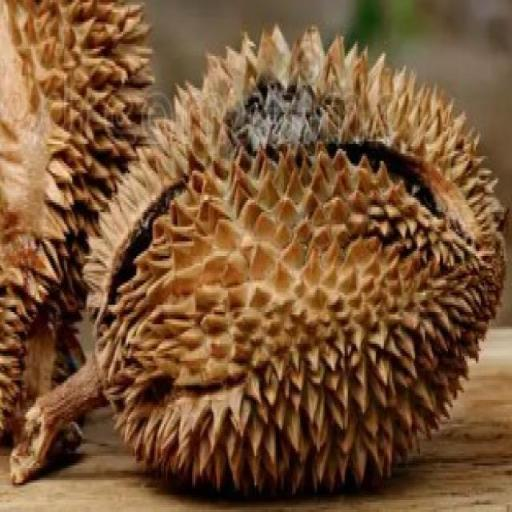rot: (12, 0, 512, 489)
